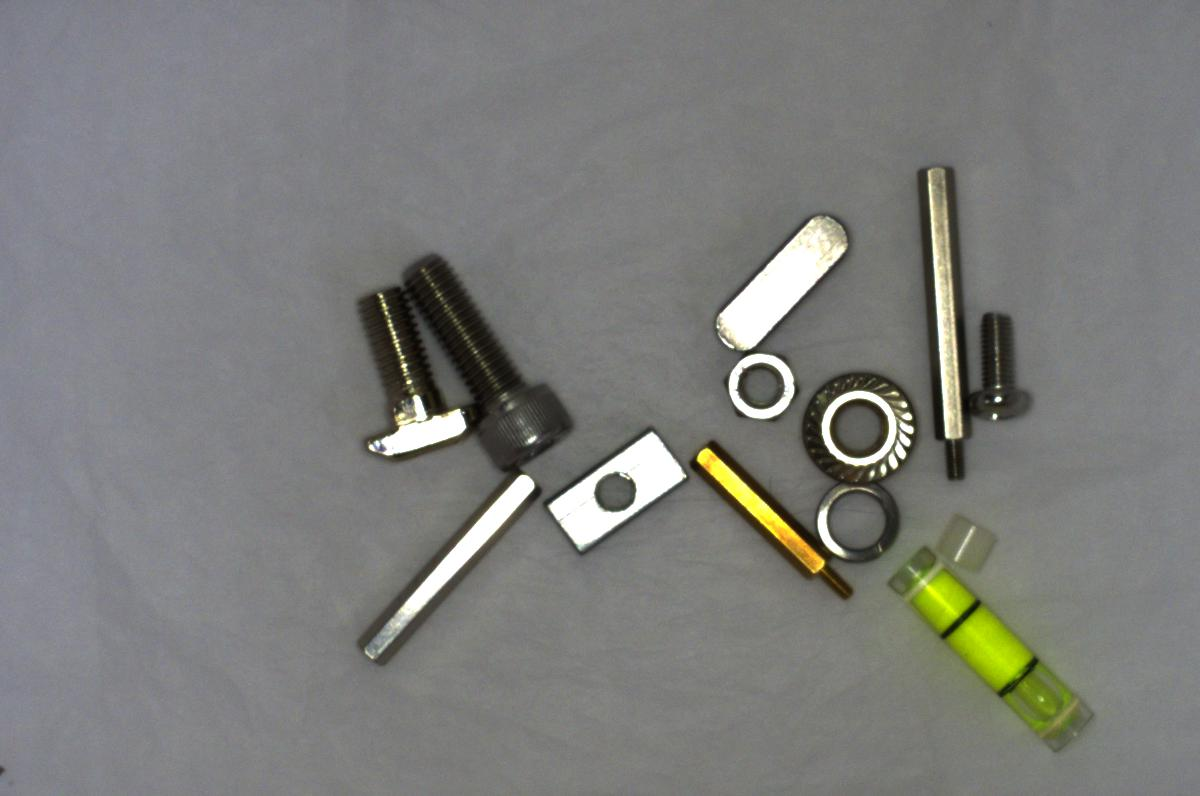Double hexagonal column: (347, 469, 550, 674)
Flange nut: (794, 359, 921, 481)
Hexagon nut: (717, 344, 801, 431)
Hexagon pillar: (678, 442, 860, 605)
Hexagon screw: (394, 245, 566, 482)
Hexagonal steel column: (900, 149, 979, 481)
Horizontal bubble: (880, 542, 1101, 755)
Keybar: (694, 195, 860, 356)
Plastic cushion pillar: (930, 506, 1006, 578)
Rectangular nut: (544, 430, 689, 559)
Round head screw: (974, 308, 1035, 427)
Spring washer: (810, 477, 908, 563)
T-shaped screw: (329, 278, 465, 454)
